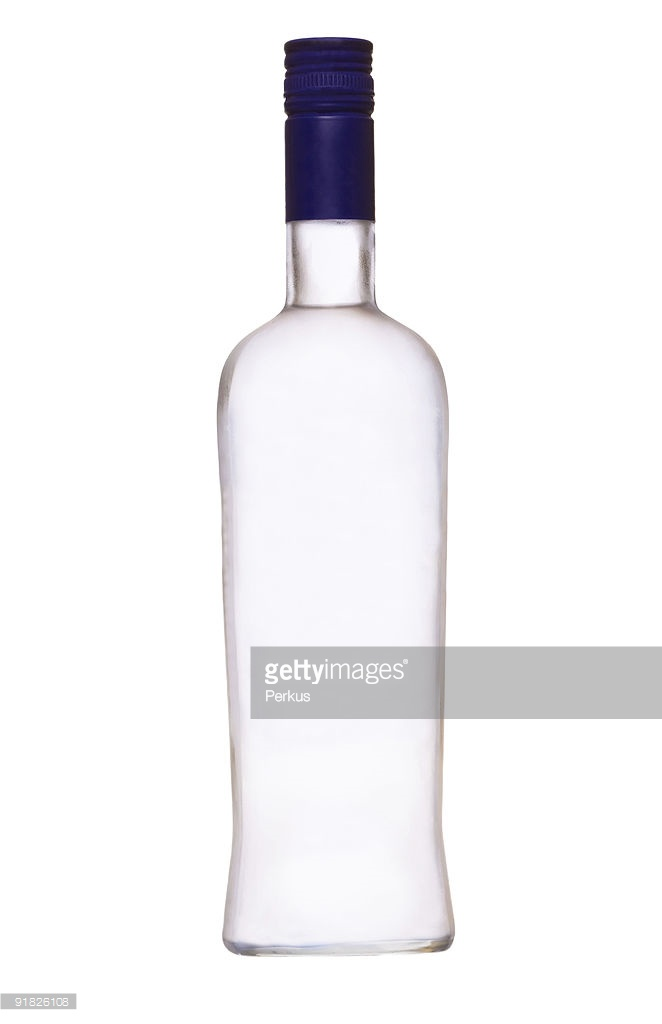emptybottle: (221, 38, 456, 957)
